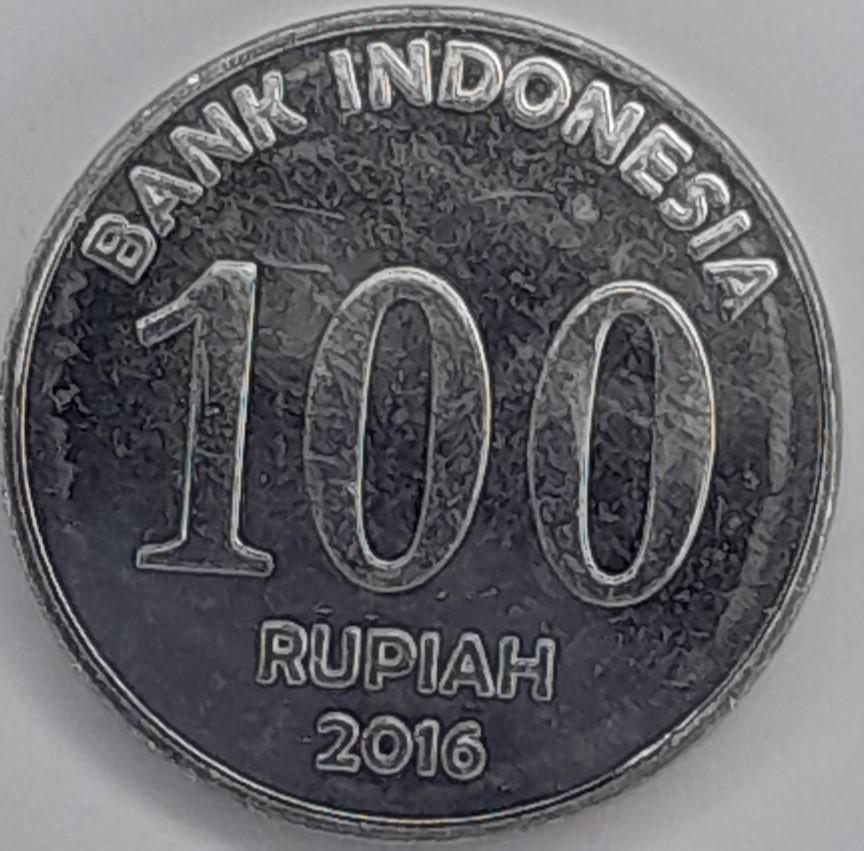coin_100_e2016: (0, 0, 846, 843)
